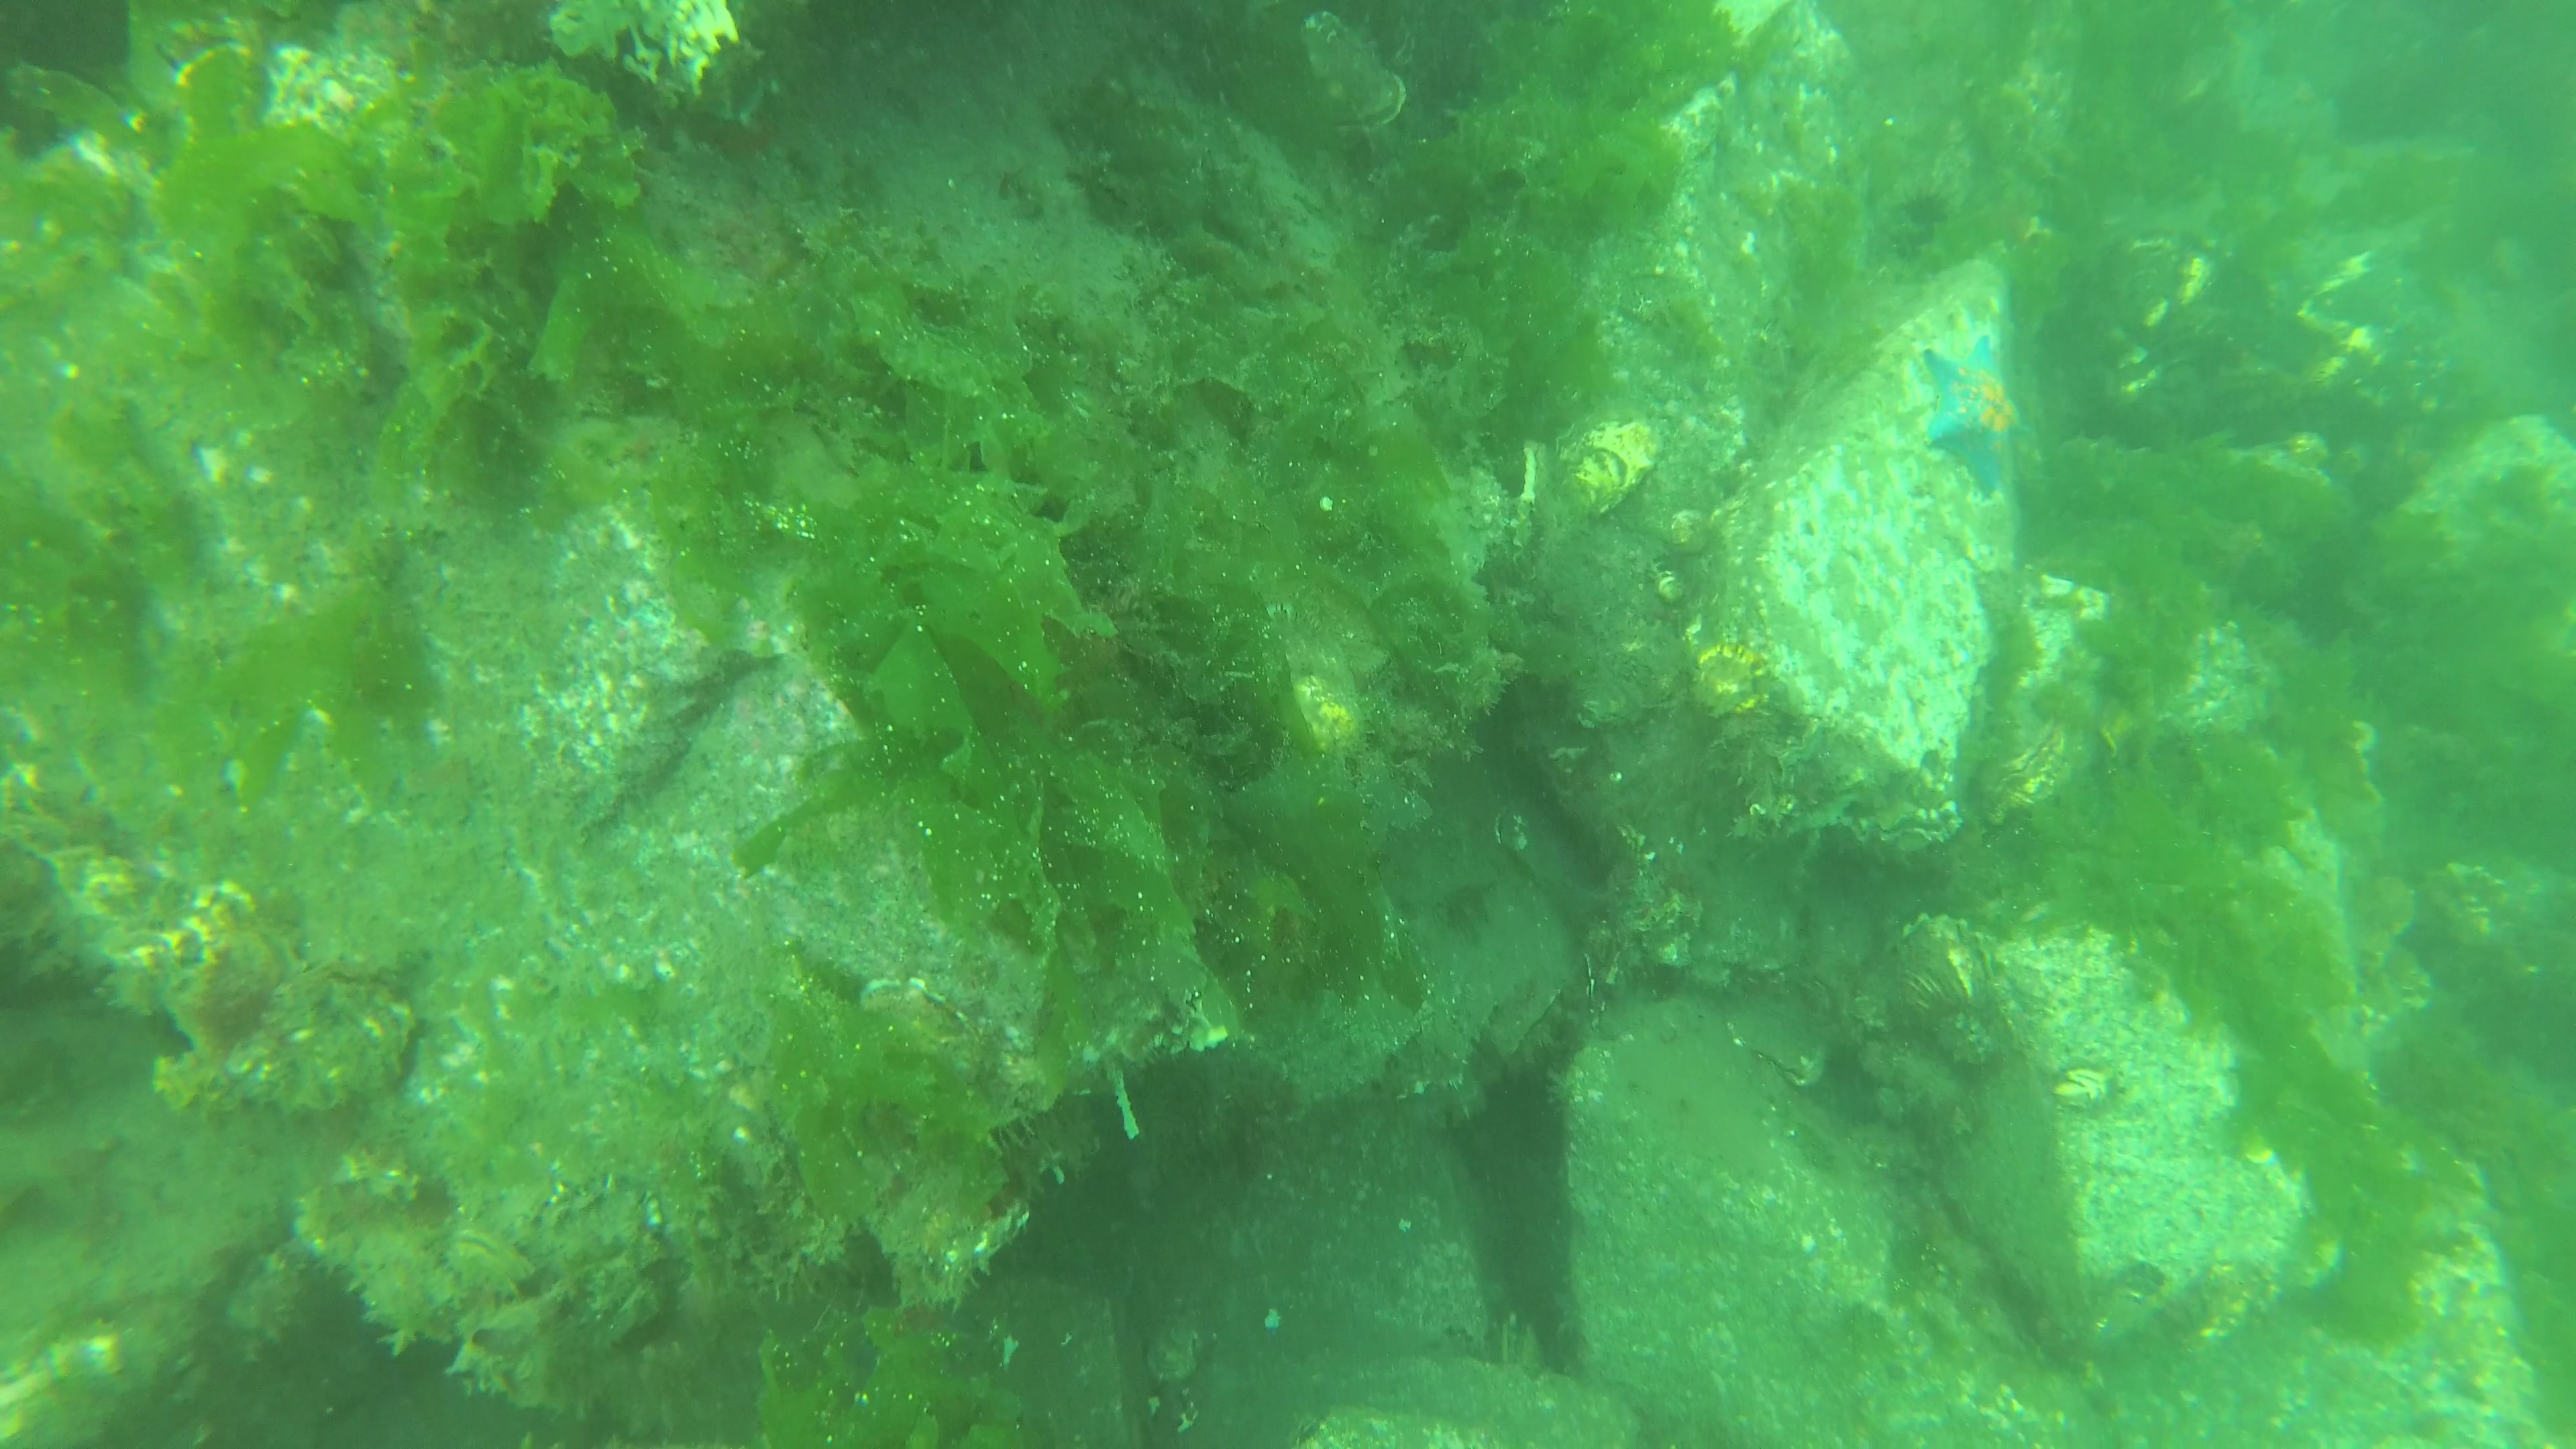starfish: (1918, 322, 2020, 499)
